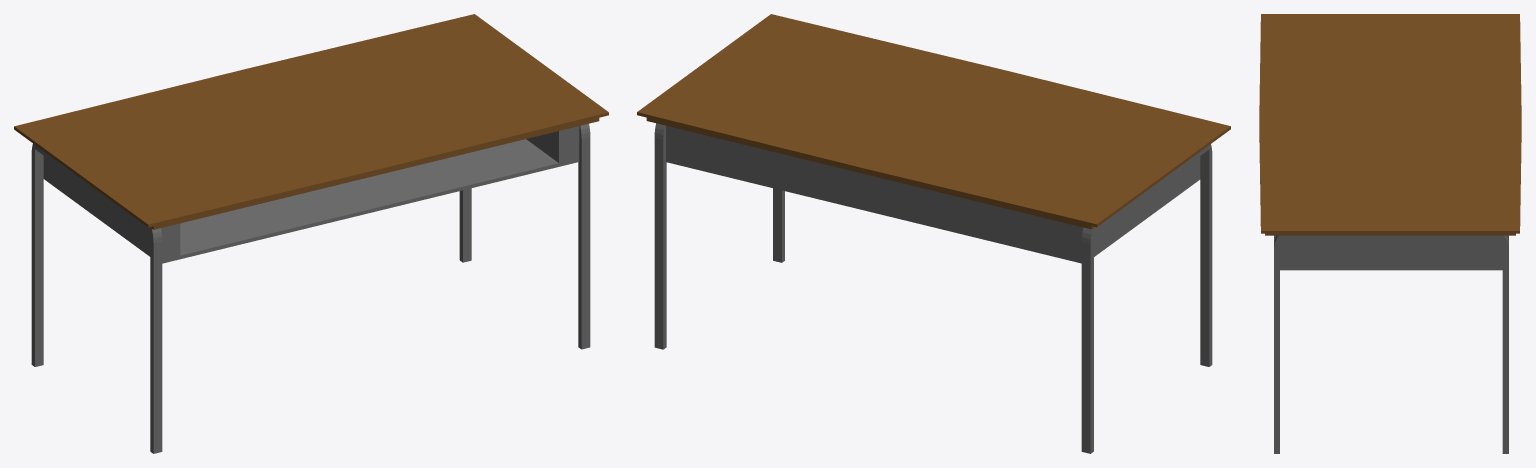
The model's file is table.fbx.
3 renders of one model, left to right at view 1: azimuth 30°, elevation 25°; view 2: azimuth 150°, elevation 25°; view 3: azimuth 270°, elevation 25°, orthographic. The views are drawn at different scales.
Visible parts, largest first — view 1: Cube.010; view 2: Cube.010; view 3: Cube.010.
Boxes of the visible parts, x1=… form: Cube.010: x1=14, y1=14, x2=608, y2=453; Cube.010: x1=637, y1=14, x2=1230, y2=453; Cube.010: x1=1259, y1=14, x2=1521, y2=453.
Size of the model in its own units: 222 by 109 by 114.
